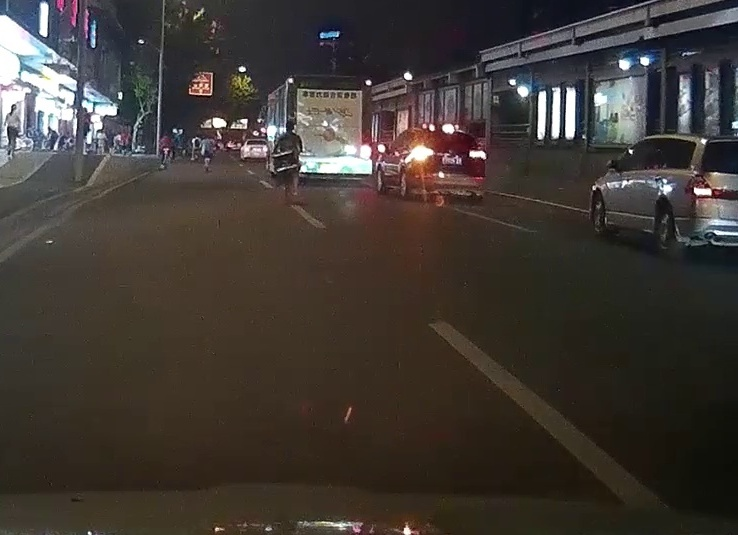L_light: (414, 149, 433, 159)
R_light: (470, 150, 485, 159)
T_light: (445, 131, 455, 134)
night-left: (410, 128, 485, 203)
